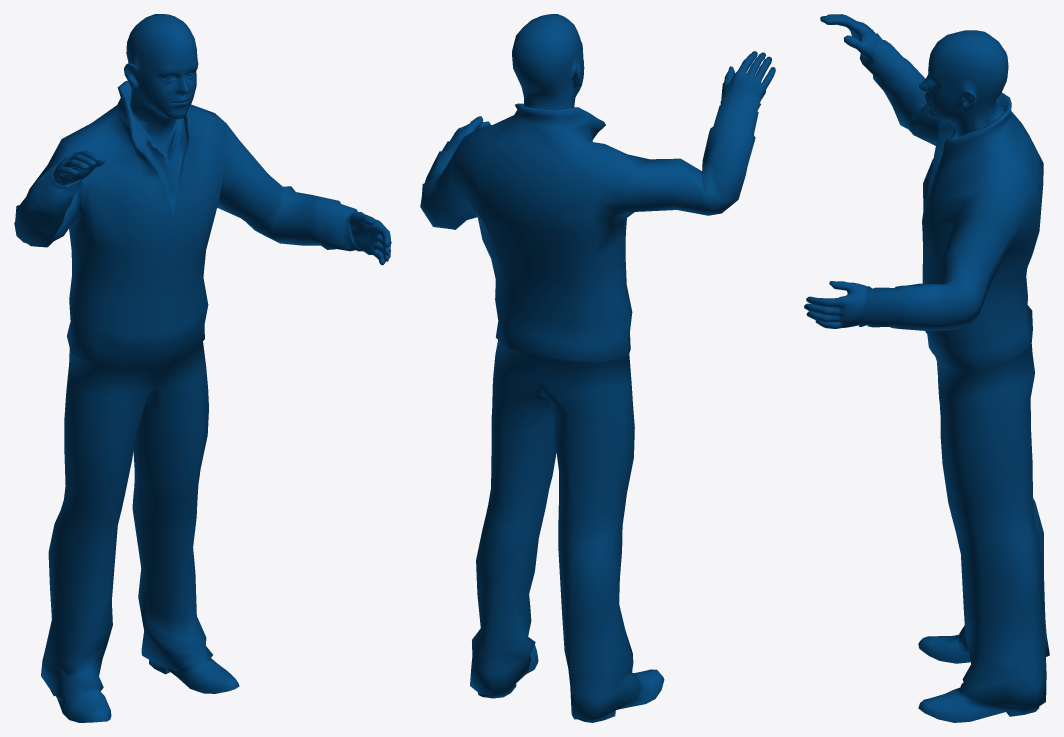
File: Doll 1.FBX
3 views of the same model, side by side, from view 1: azimuth 30°, elevation 25°; view 2: azimuth 150°, elevation 25°; view 3: azimuth 270°, elevation 25° (orthographic).
Parts seen in each view (by area): view 1: doll 1; view 2: doll 1; view 3: doll 1.
Part boxes in pixels (x1=…): doll 1: x1=14, y1=14, x2=391, y2=722; doll 1: x1=420, y1=14, x2=775, y2=722; doll 1: x1=804, y1=14, x2=1049, y2=722.
Size of the model in its own units: 10.43 by 20.4 by 6.87.
